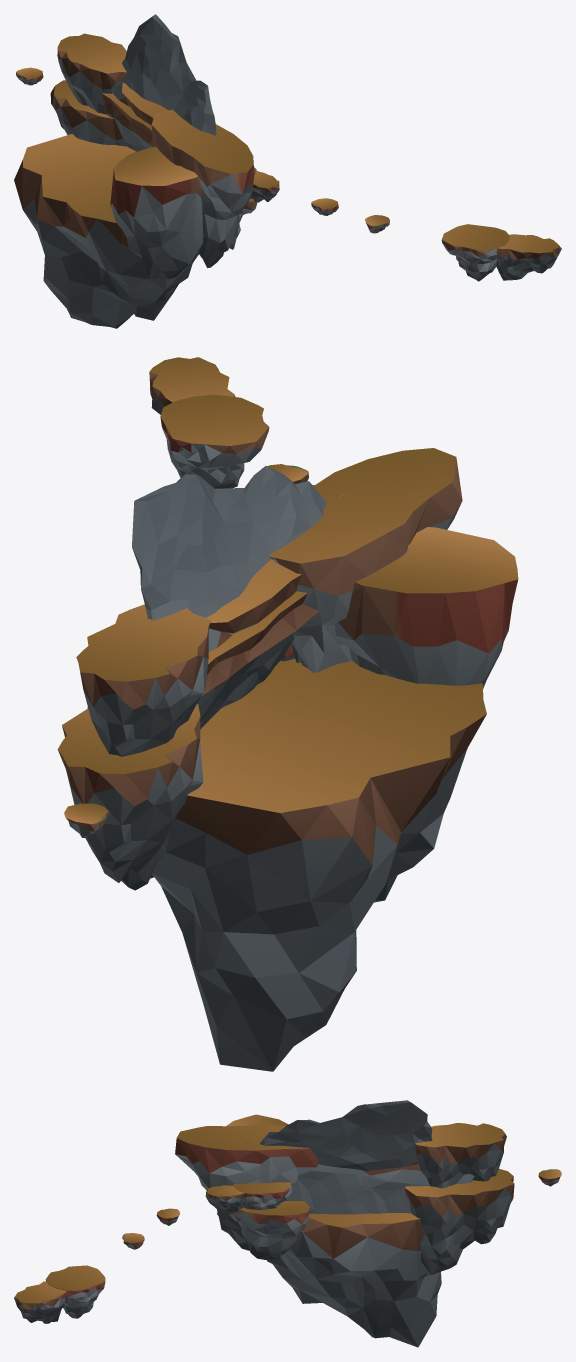
Rendered from islands  cluster.fbx.
3 views of the same model, one above another, from view 1: azimuth 30°, elevation 25°; view 2: azimuth 150°, elevation 25°; view 3: azimuth 270°, elevation 25° (orthographic). The views are drawn at different scales.
Parts seen in each view (by area): view 1: Cube.024; view 2: Cube.024; view 3: Cube.024.
Boxes of the visible parts, x1=… form: Cube.024: x1=14, y1=14, x2=561, y2=328; Cube.024: x1=57, y1=357, x2=518, y2=1071; Cube.024: x1=14, y1=1100, x2=561, y2=1347.
Size of the model in its own units: 12424 by 10245 by 18989.
